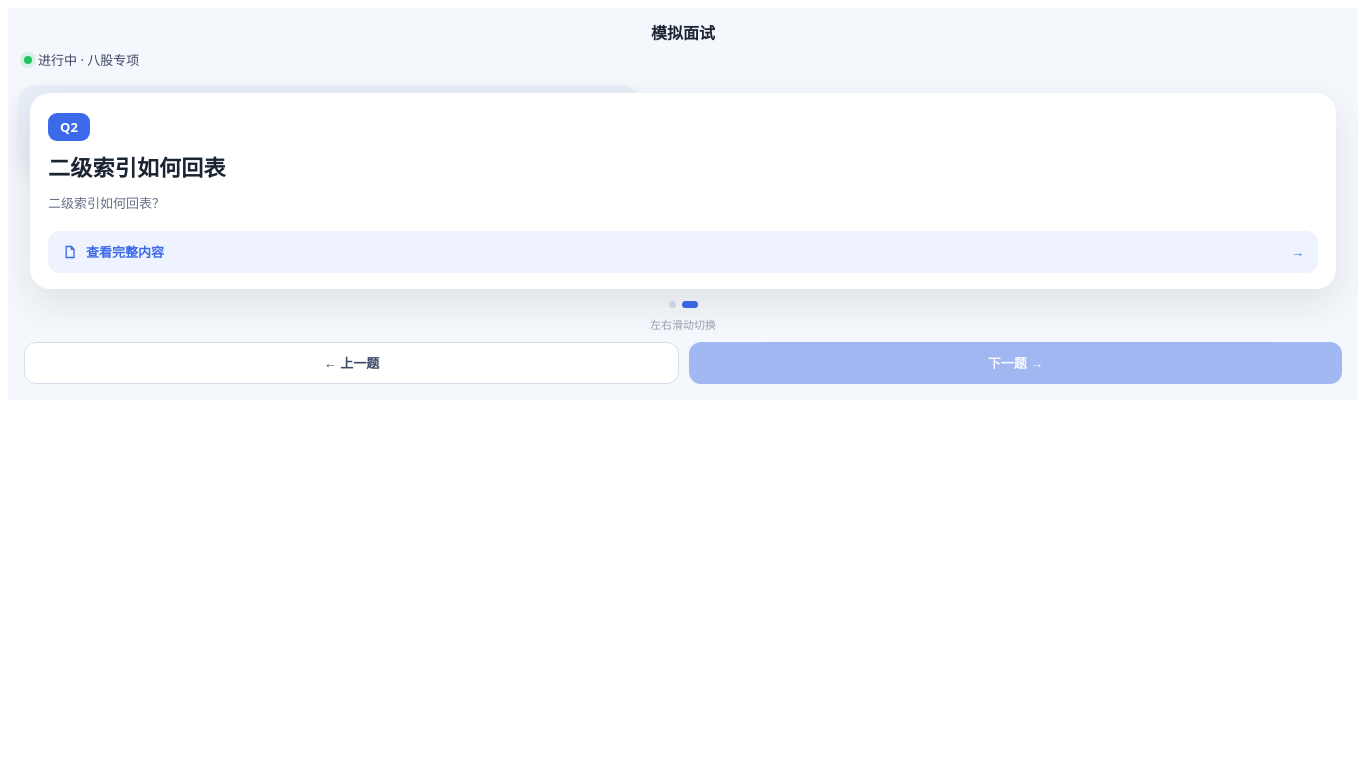
Test: InProgressPanel › shows backend answer, comparison, and scores only after expanding detail folds
Click the button with test id "prev-card" at x=352, y=363, box [24, 342, 679, 384]
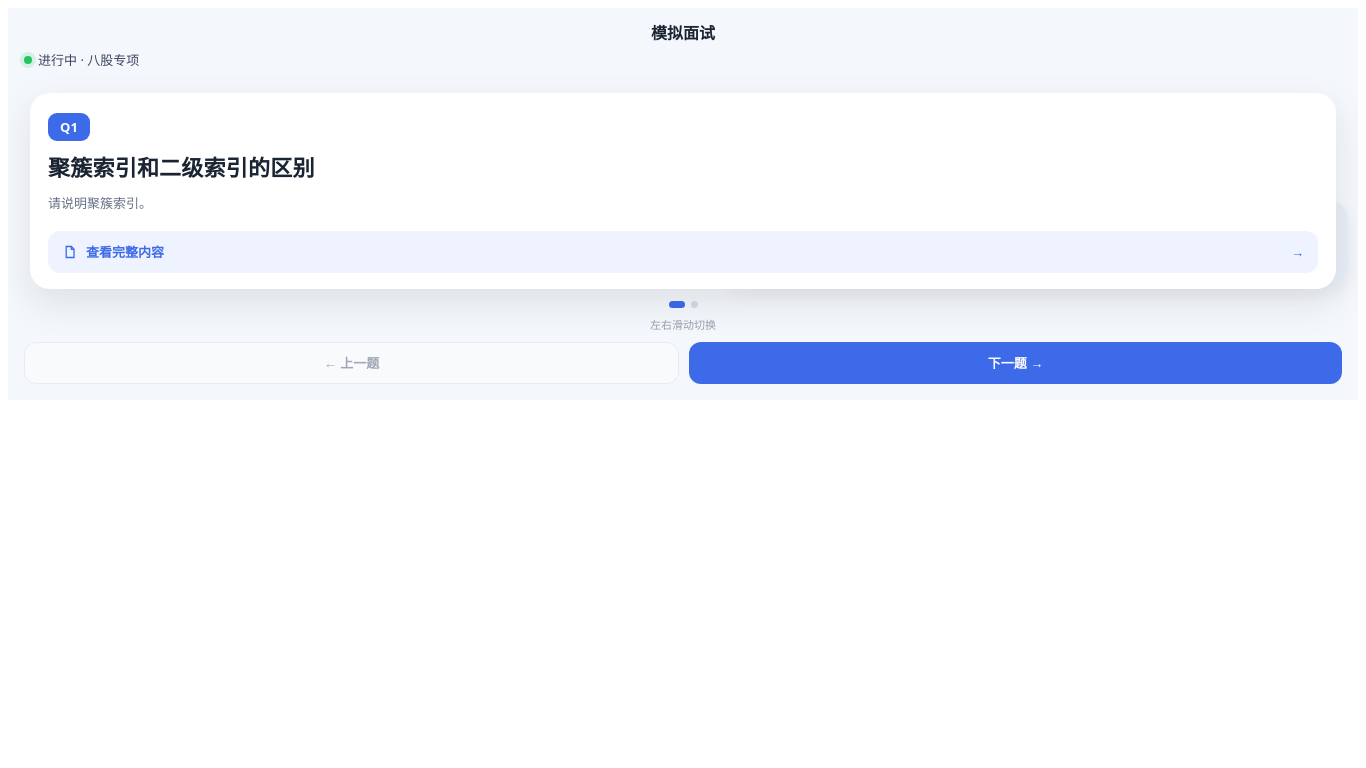
Click the button with test id "open-card-detail" at x=125, y=252, box [48, 231, 1318, 273]
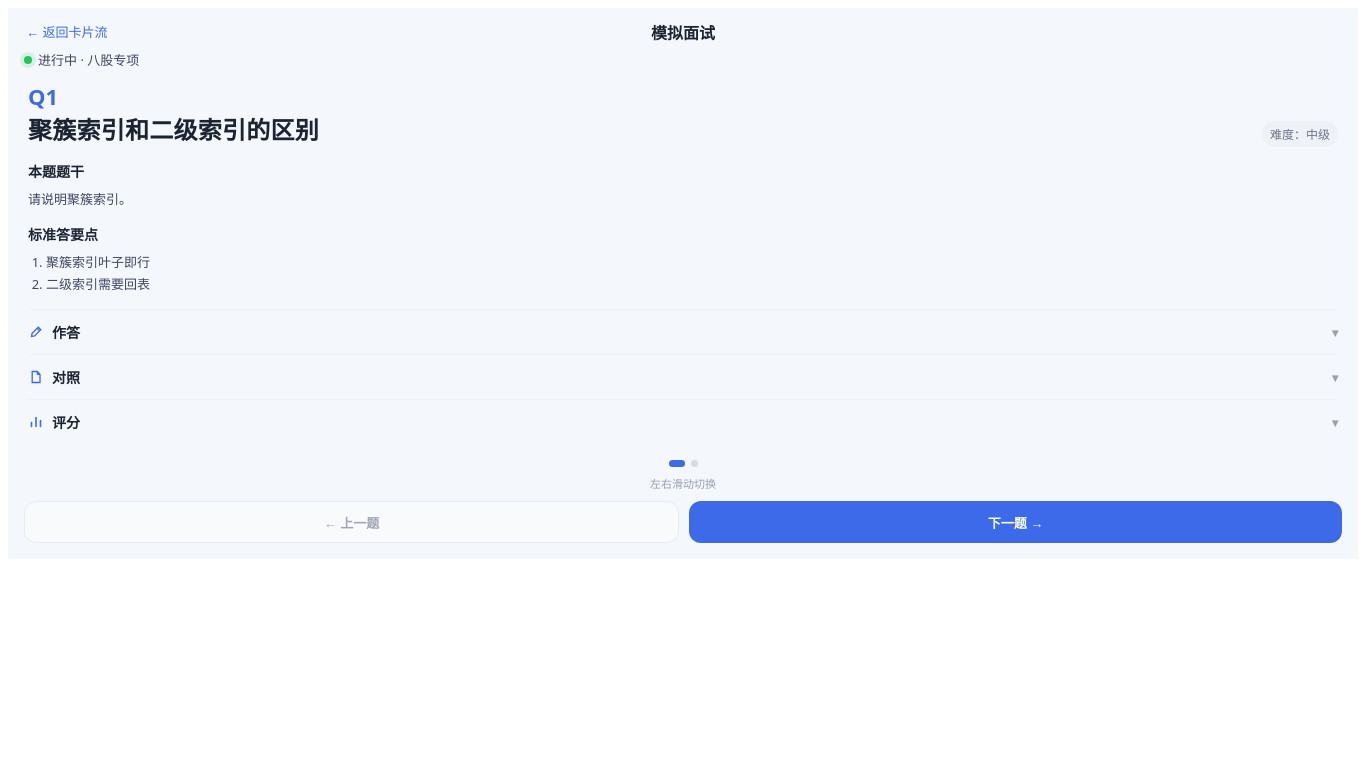
Check: the text with test id "card-id" reads "Q1", box [28, 81, 58, 111]
Click the button "作答 ▾" at x=36, y=332, box [28, 310, 1338, 354]
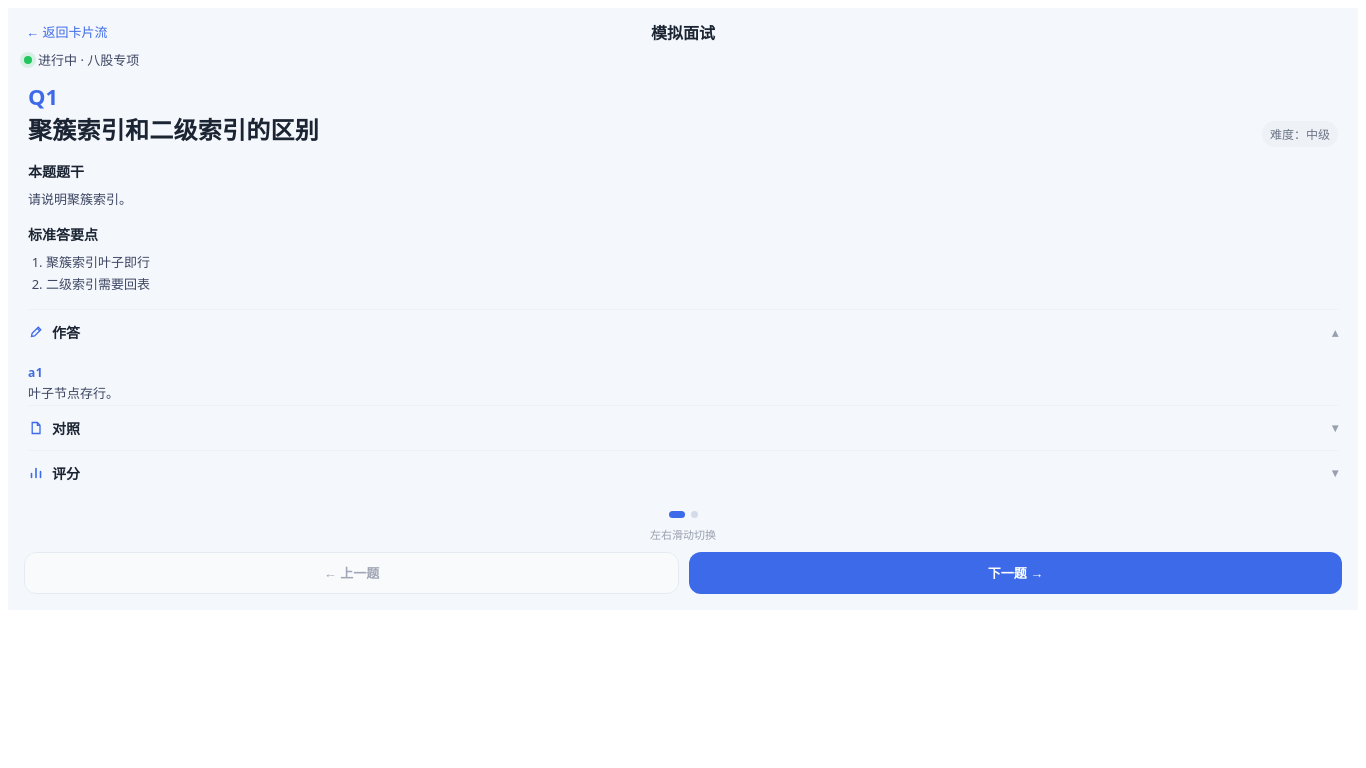
Check: the text with test id "card-answer" shows "叶子节点存行", box [28, 384, 119, 402]
Click the button "对照 ▾" at x=36, y=428, box [28, 406, 1338, 450]
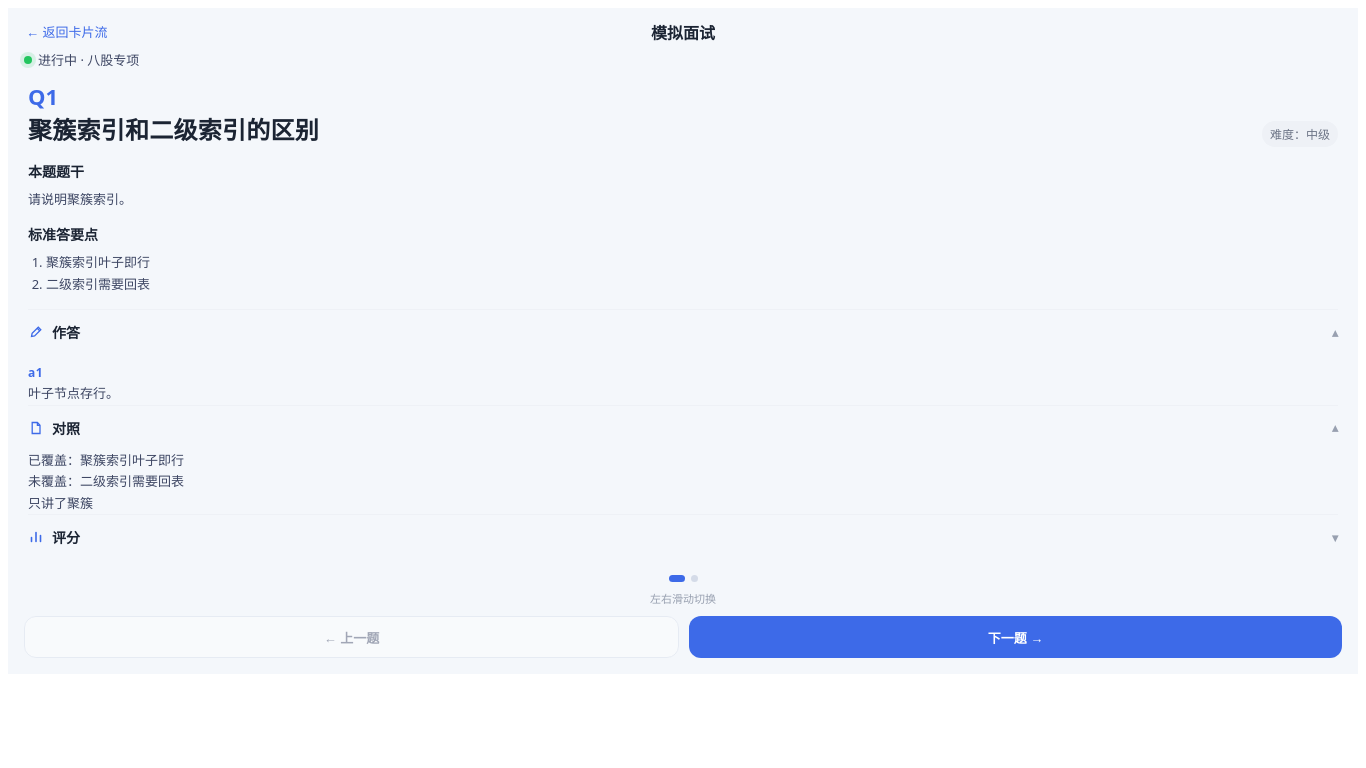
Check: the element with test id "card-comparison" shows "只讲了聚簇", box [28, 494, 93, 512]
Click the button "评分 ▾" at x=36, y=537, box [28, 515, 1338, 559]
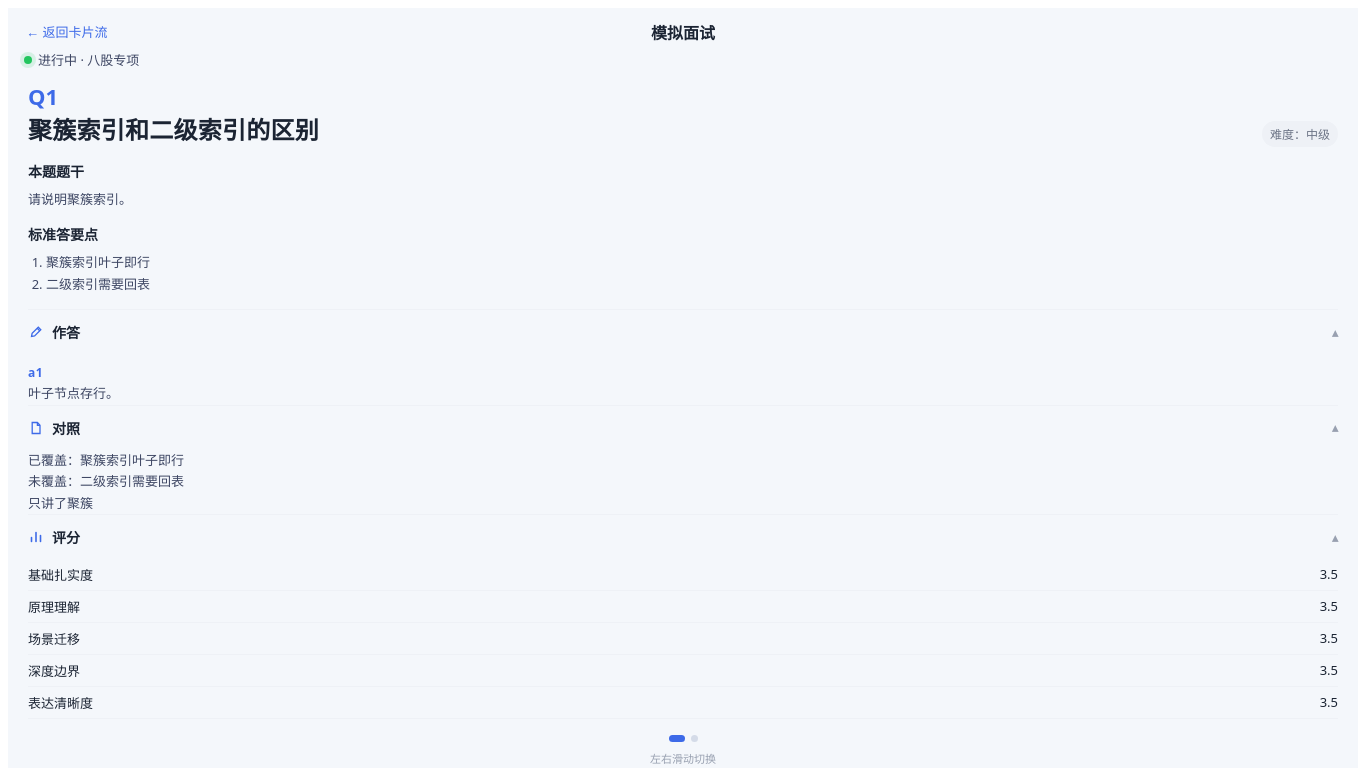
Check: the list with test id "score-placeholders" shows "3.5", box [1320, 565, 1338, 583]
Check: the list with test id "score-placeholders" shows "基础扎实度", box [28, 566, 93, 584]
